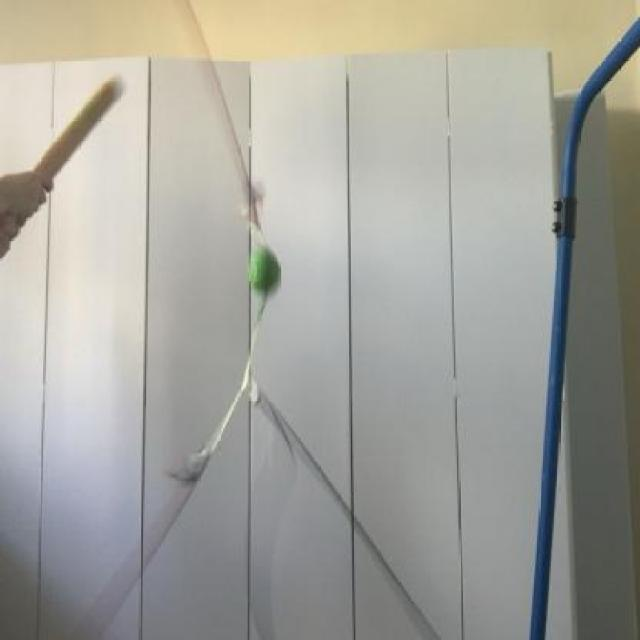baseball: (236, 237, 295, 305)
